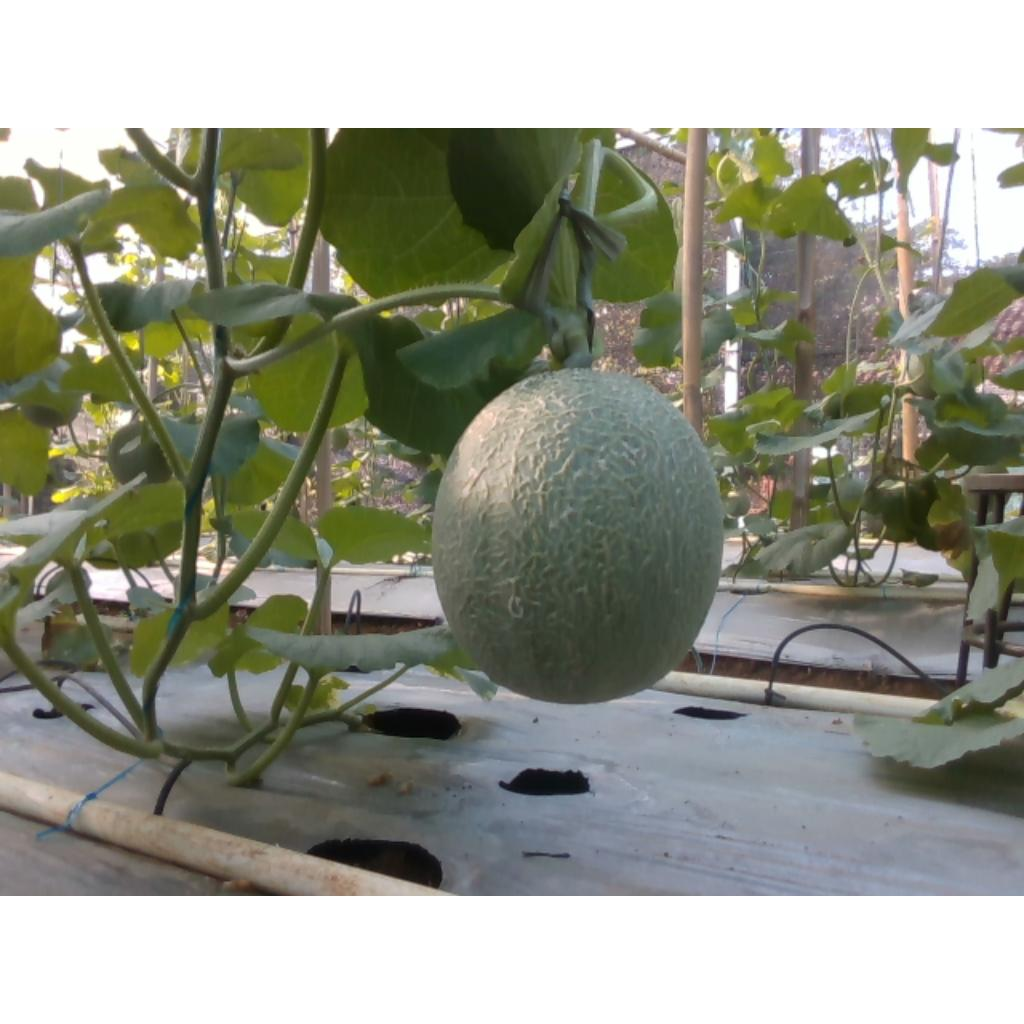melon: (435, 370, 725, 703)
